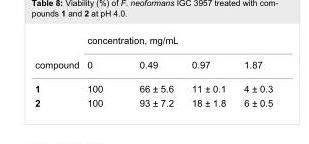table: (34, 34, 272, 107)
table column: (120, 34, 182, 107), (182, 34, 234, 107), (34, 34, 82, 107), (82, 34, 120, 107), (234, 34, 272, 107)
table column header: (34, 34, 272, 76)
table row: (34, 51, 272, 76), (34, 76, 272, 95), (34, 34, 272, 51), (34, 95, 272, 107)
table spanning cell: (82, 34, 272, 51), (34, 34, 82, 76)
